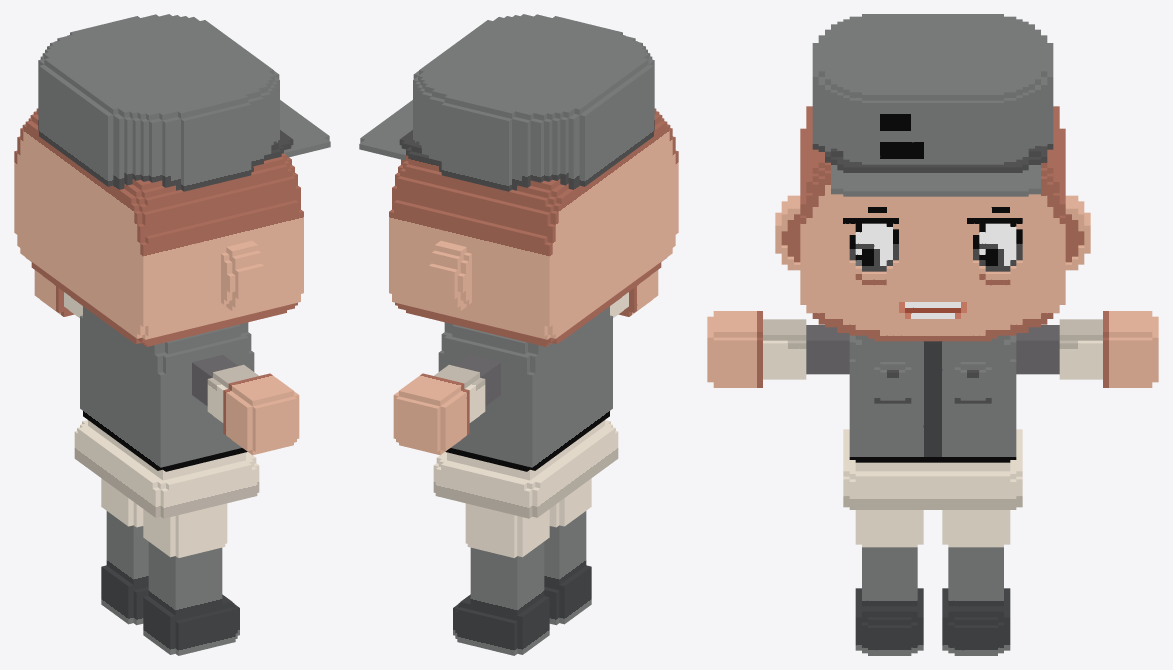
File: 高级特工穿山甲.gltf
The picture shows the model from 3 angles, left to right: view 1: azimuth 30°, elevation 25°; view 2: azimuth 150°, elevation 25°; view 3: azimuth 270°, elevation 25°; orthographic projection. The views are drawn at different scales.
Parts seen in each view (by area): view 1: Object; view 2: Object; view 3: Object.
Boxes of the visible parts, left/top/right/bottom form: Object: left=14, top=14, right=330, bottom=655; Object: left=359, top=14, right=678, bottom=655; Object: left=707, top=14, right=1158, bottom=655.
Size of the model in its own units: 41 by 103 by 73.
Materials: 1 (1 with a texture image).
